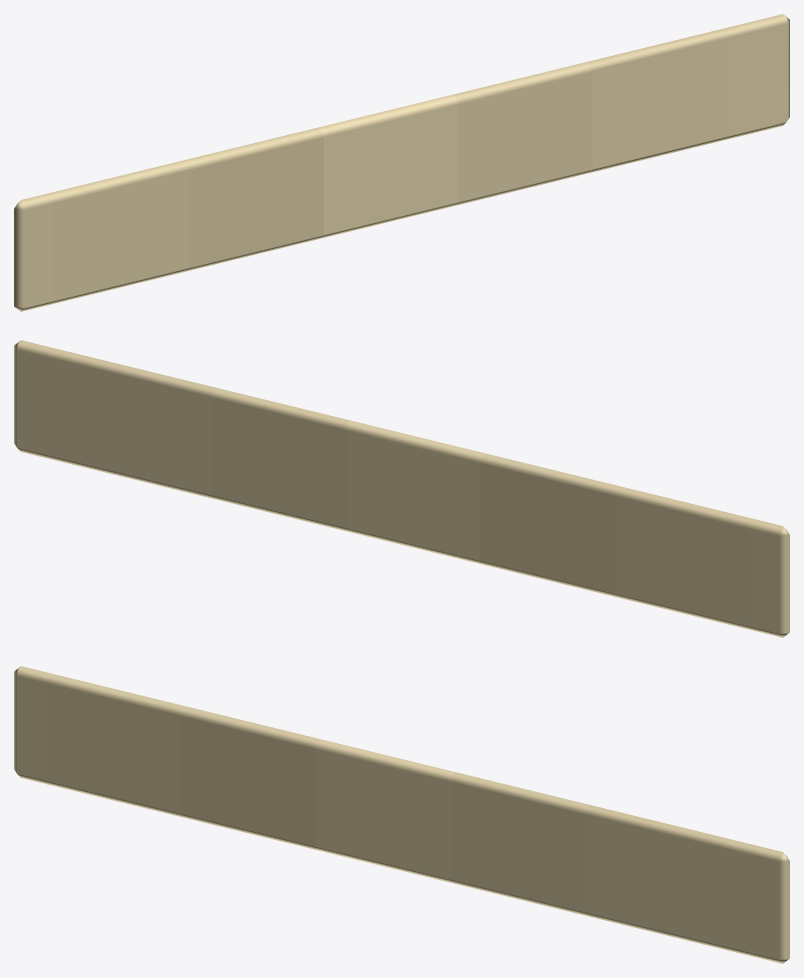
File: Band.glb
The picture shows the model from 3 angles, top to bottom: view 1: azimuth 30°, elevation 25°; view 2: azimuth 150°, elevation 25°; view 3: azimuth 330°, elevation 25°; orthographic projection.
Visible parts, largest first — view 1: Band; view 2: Band; view 3: Band.
Boxes of the visible parts, box(x1,y1,x2,y2) form: Band: box(14, 14, 789, 311); Band: box(14, 340, 789, 637); Band: box(14, 666, 789, 963).
Size of the model in its own units: 0.225 by 0.031 by 0.004.
1 material, 1 textured.
